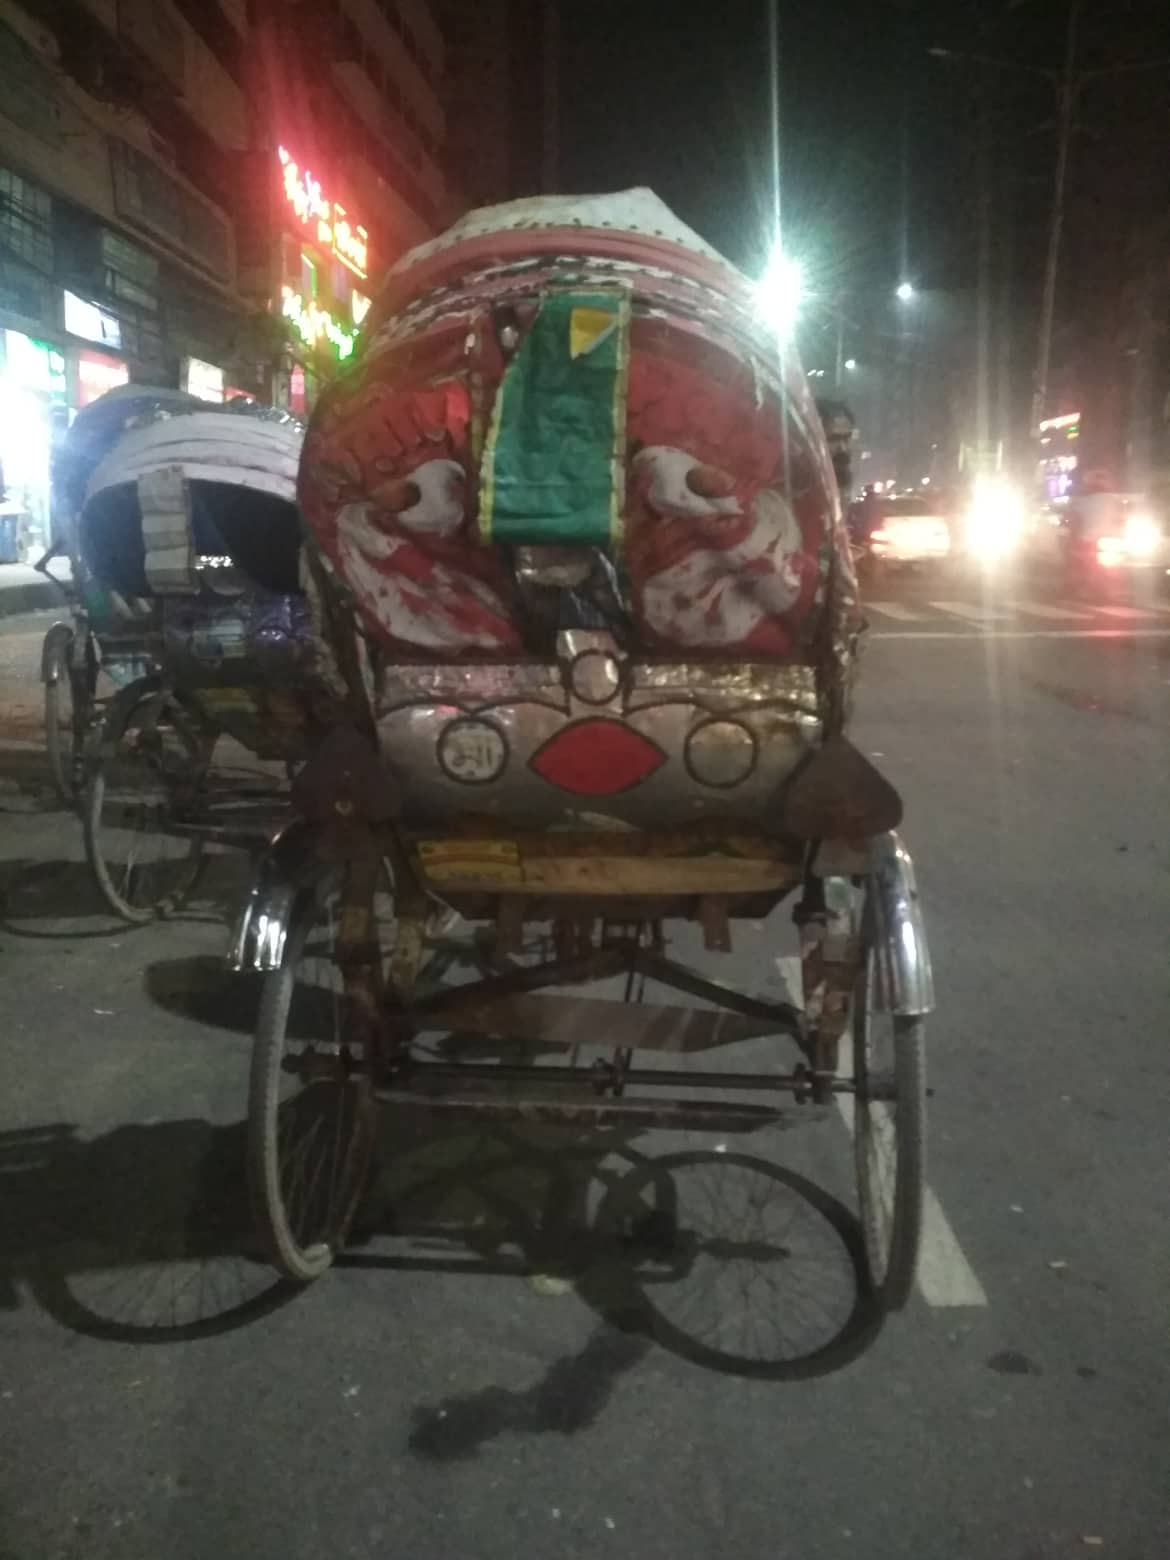Rickshaw: (278, 182, 973, 1336), (77, 418, 372, 931), (42, 357, 100, 760)
